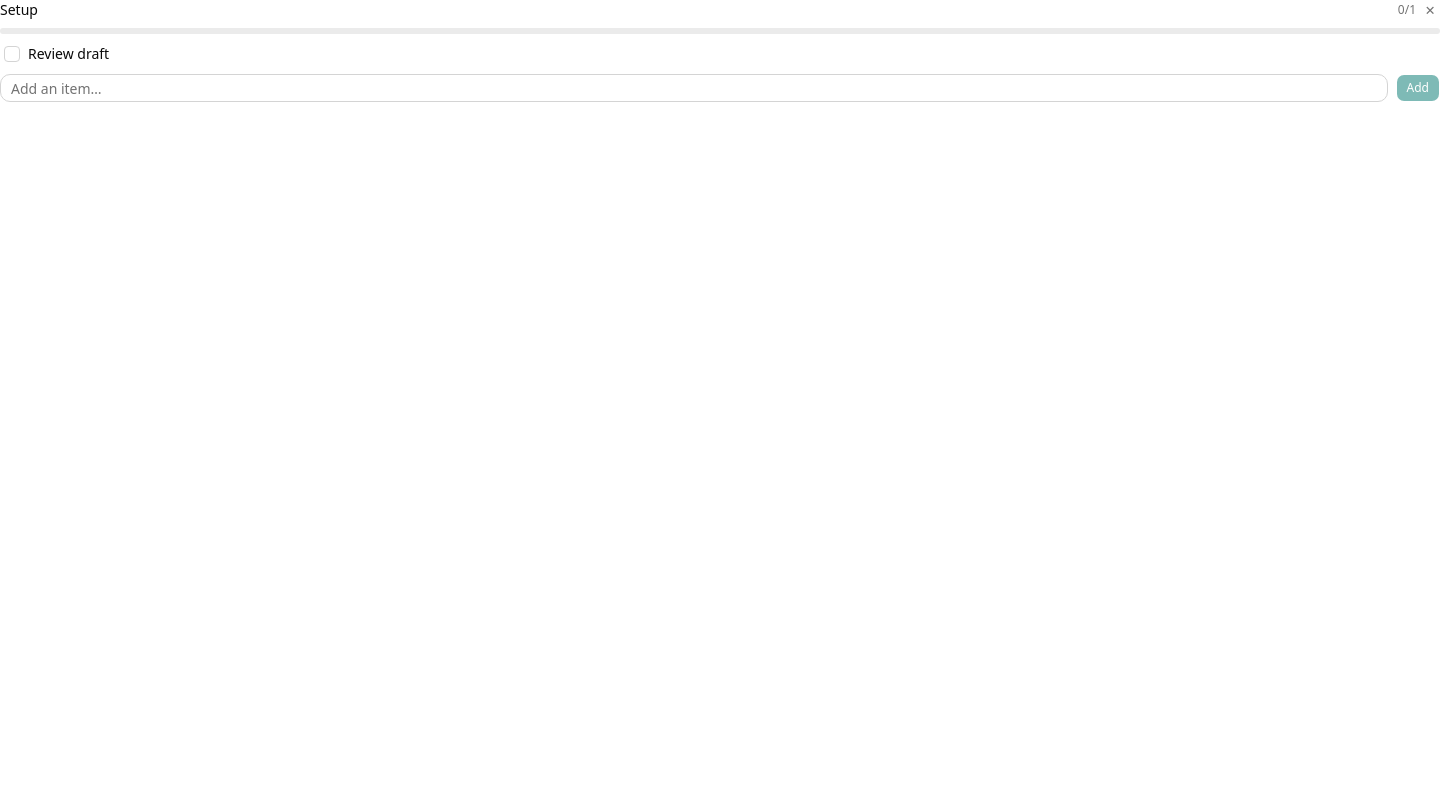
Test: TaskChecklist › clicking a subtask title opens the edit dialog
Click the text "Review draft". click: (69, 54)
box: [28,44,109,63]
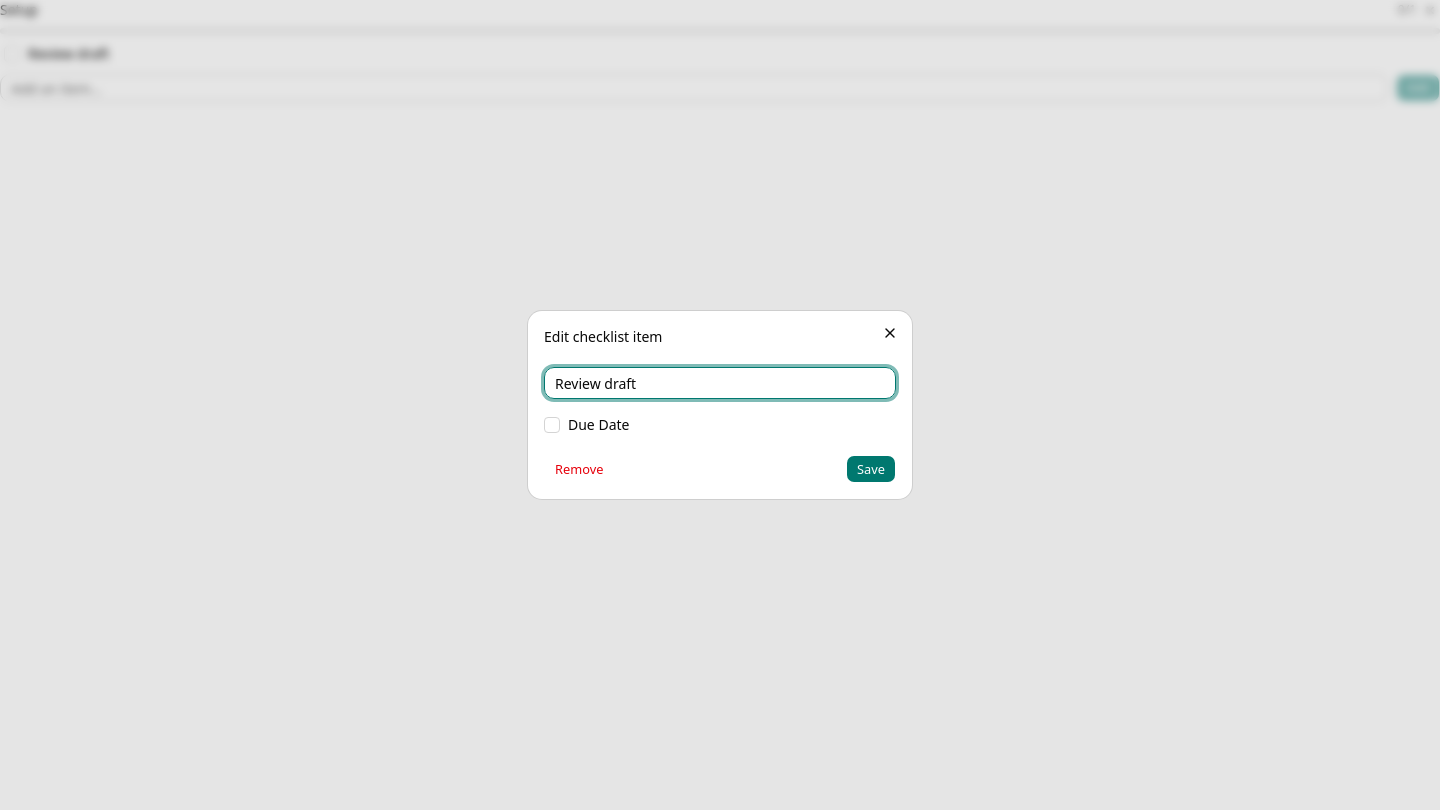
Expected: the heading "Edit checklist item" is shown, [544,327,662,346]
